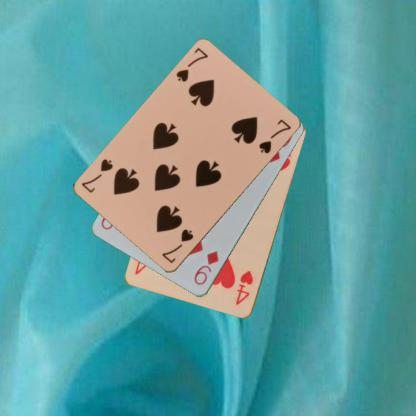4h: (233, 268, 255, 307)
7s: (173, 45, 210, 84), (159, 227, 195, 265)
9d: (191, 248, 220, 287)
